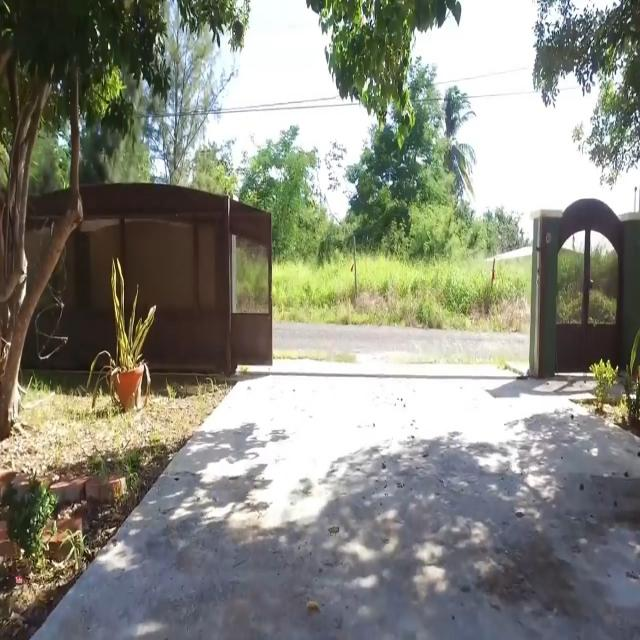Building: (19, 184, 273, 381), (530, 206, 639, 386)
Tree: (0, 6, 99, 434), (312, 0, 457, 121)
